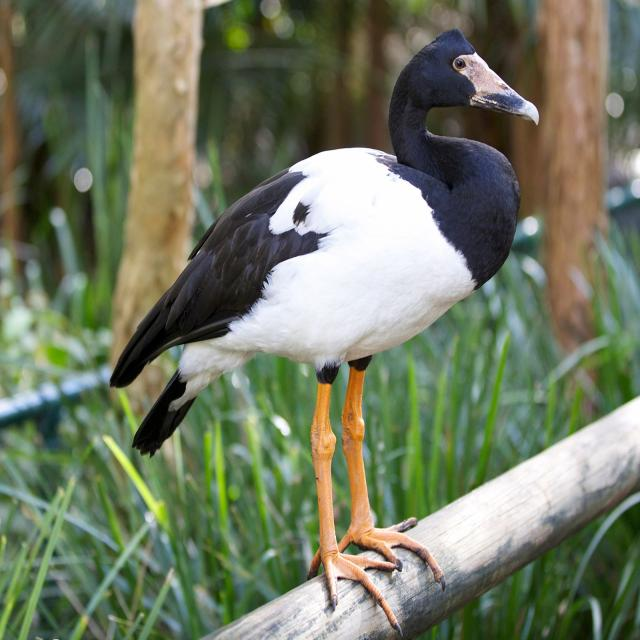Goose: (111, 21, 548, 593)
